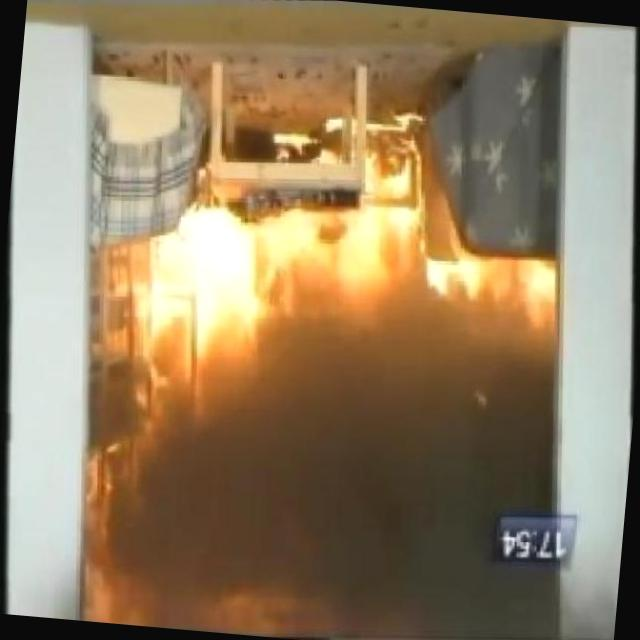fire: (114, 196, 548, 400)
smoke: (74, 313, 579, 640)
